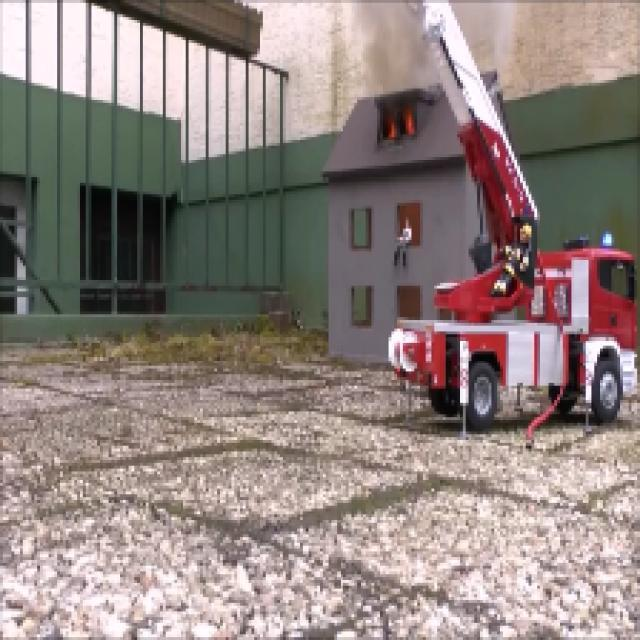Fire: (376, 106, 414, 137)
Smoke: (374, 9, 414, 87)
